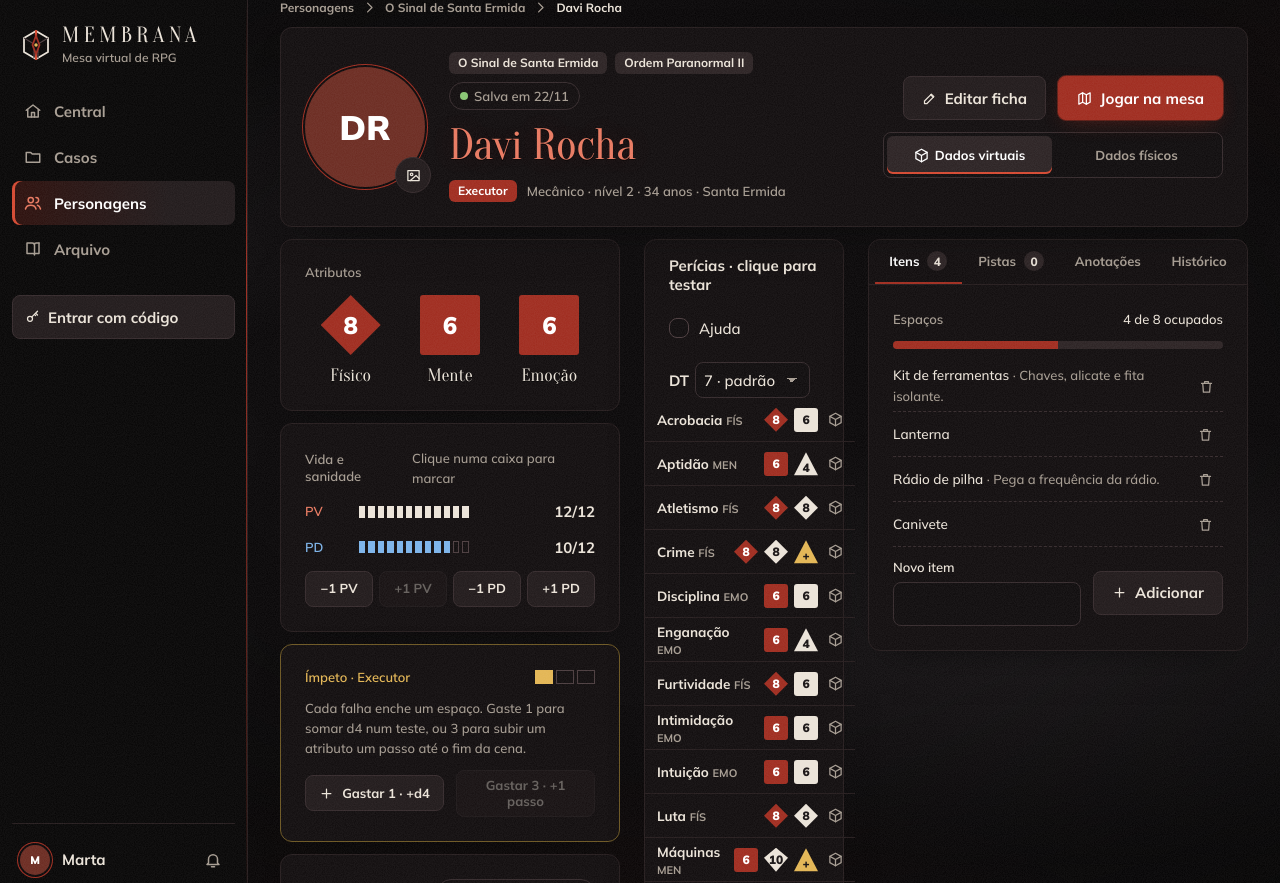
Scenario: Ficha: 20 perícias com prévia de teste (#46) › Ímpeto ligado vai no pedido e desliga depois do teste
Expected: the heading "Davi Rocha" is shown, [449,120,636,170]
What coordinates should you click on to do the following:
click the button "Gastar 1 · +d4"
I would click on:
 (374, 793)
Its box is [305,775,444,811].
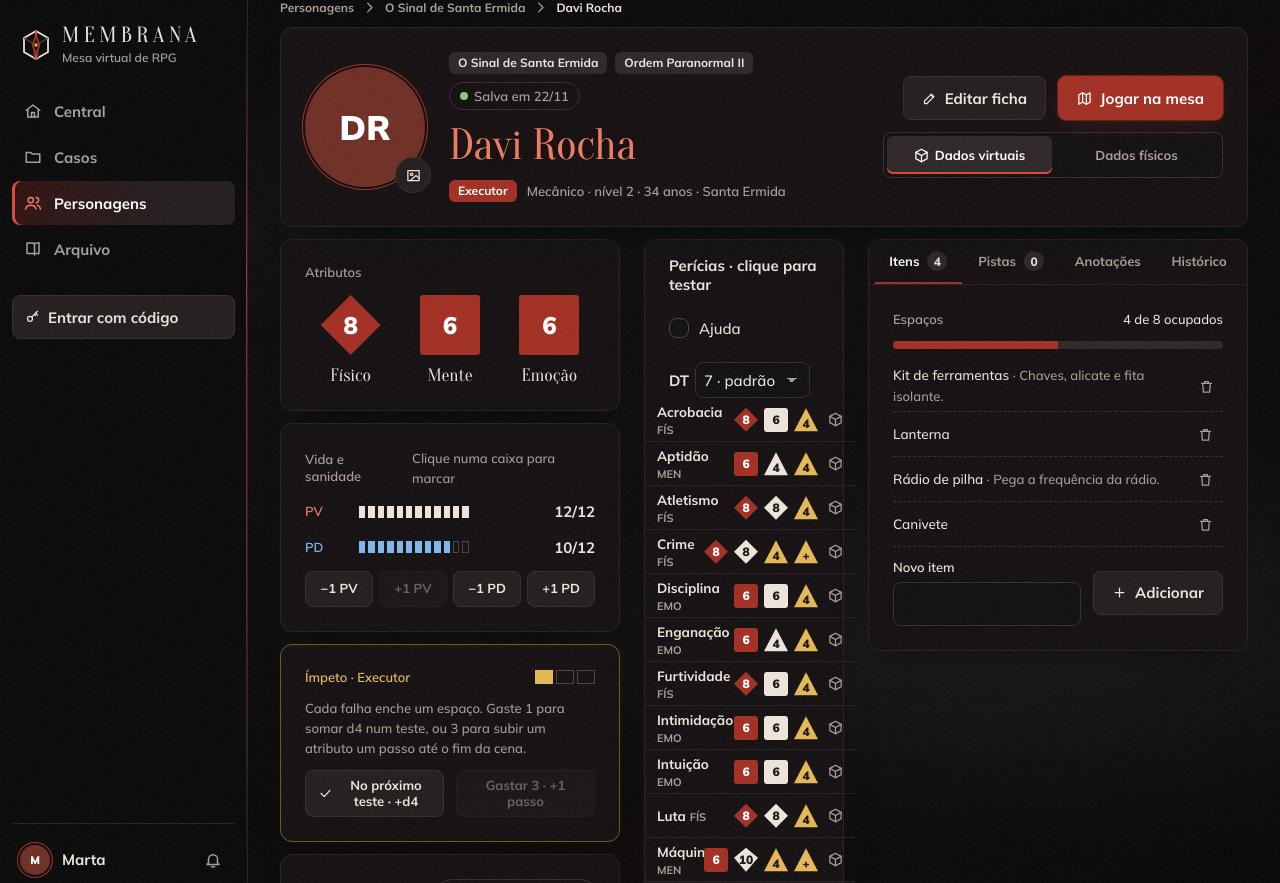
What coordinates should you click on to do the following:
click the button with aria-label "Testar Luta: d8 de atributo, d8 de perícia e d4 de Ímpeto"
I would click on:
 (750, 816)
Its box is [645,794,855,838].
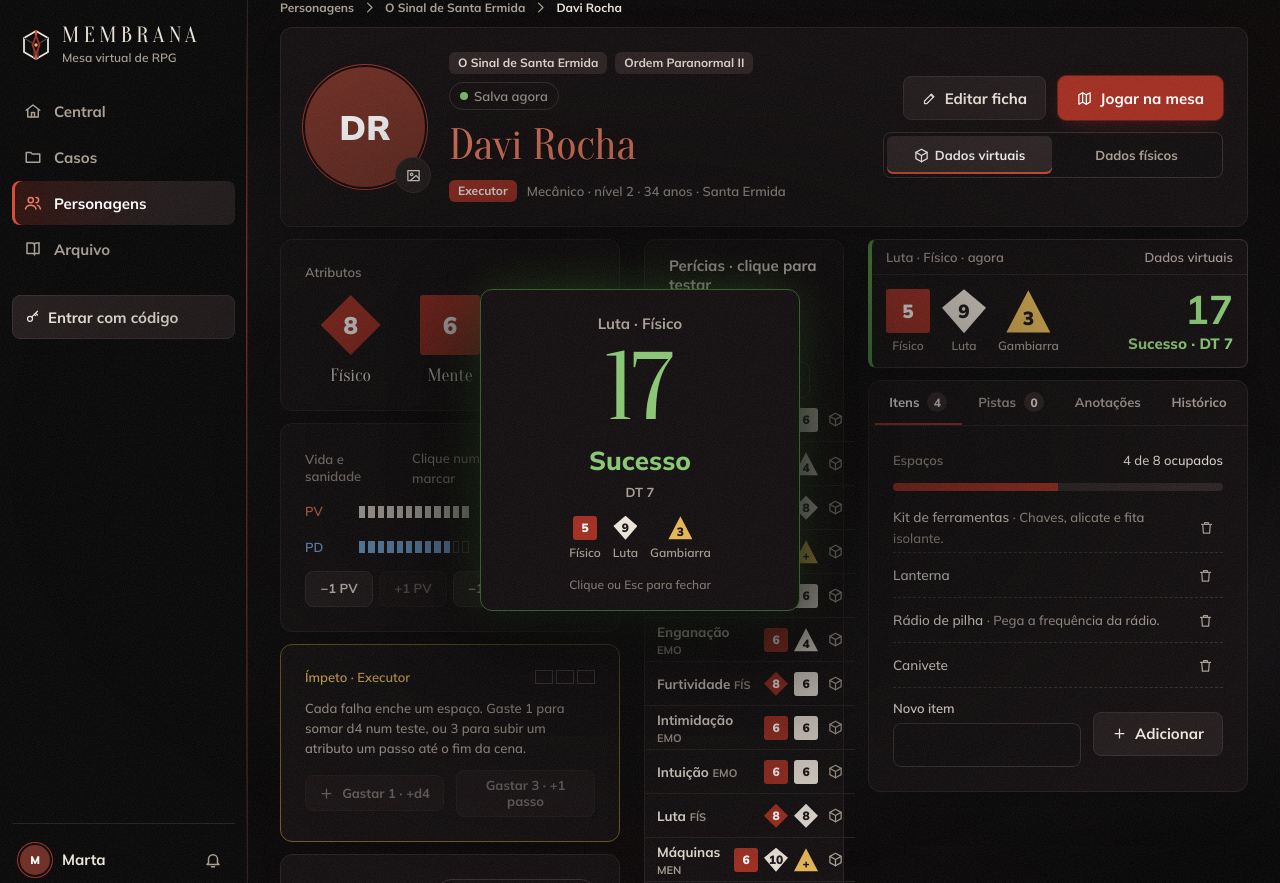
Result: the element named "Resultado do teste" is shown at [868,239,1248,368]
Result: the button "Gastar 1 · +d4" is disabled at [305,775,444,811]
